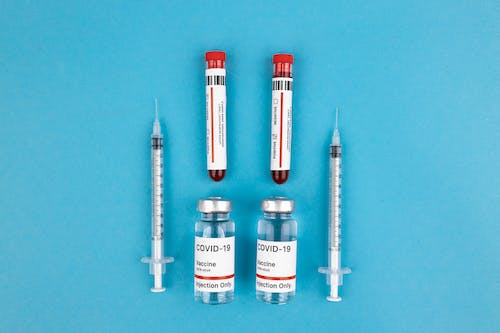blood: (269, 169, 293, 185), (205, 170, 229, 184)
